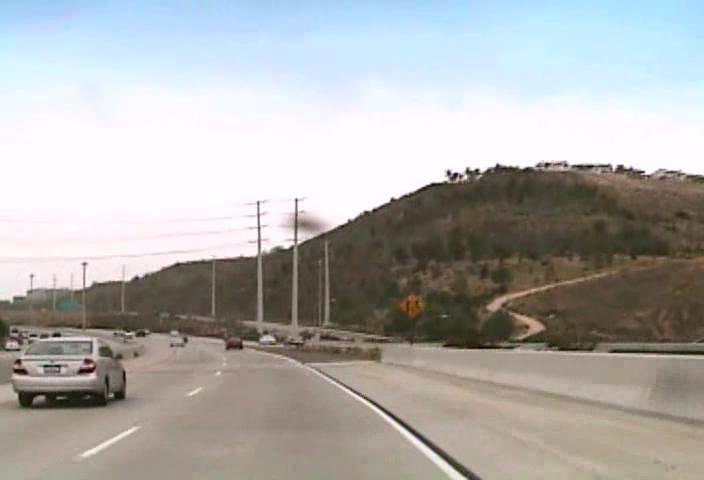addedLane: (396, 291, 425, 319)
